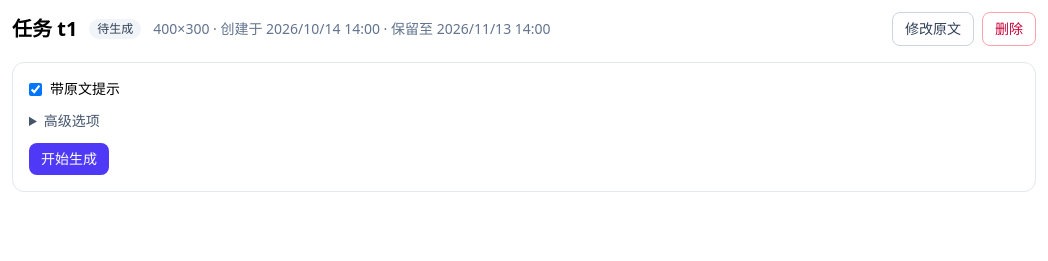
it: quota errors are shown
Click the button "开始生成".
click(69, 159)  # box [29, 143, 109, 175]
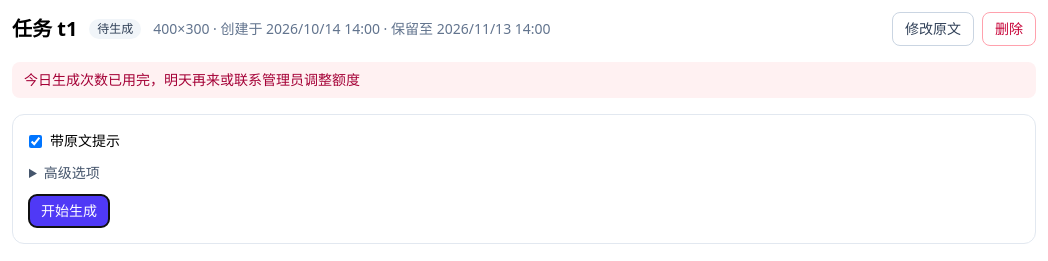
Check: the message shows "今日生成次数已用完", box [24, 70, 360, 89]
